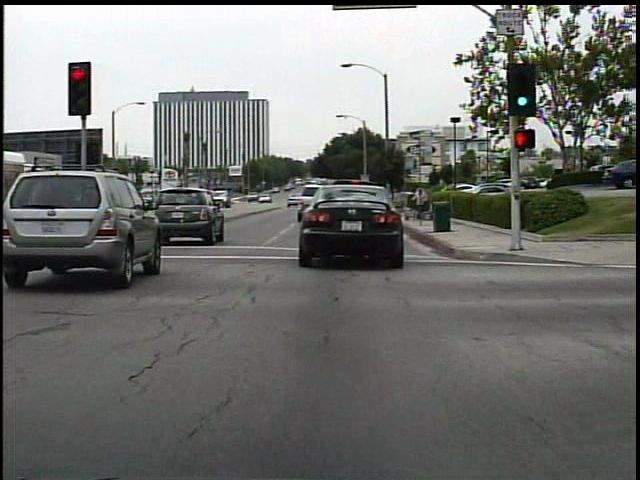person: (410, 182, 429, 225)
